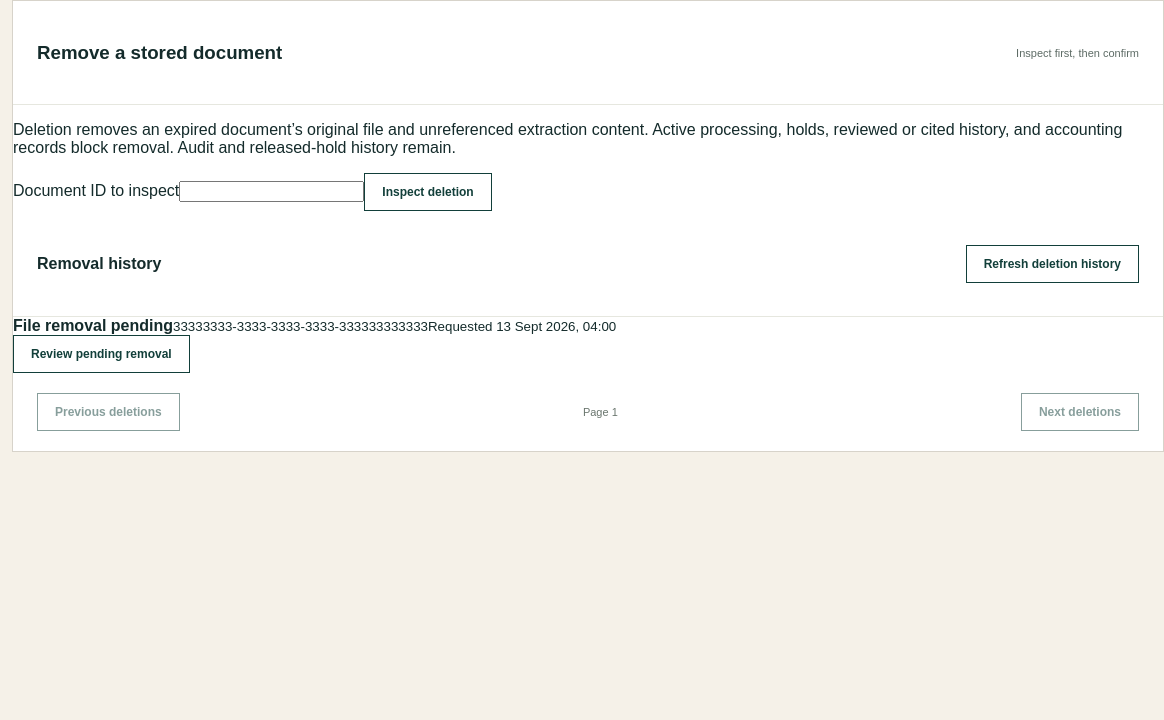
Test case: resumes pending file removal with explicit confirmation
Click the button "Review pending removal". click: (101, 354)
box: [13,335,190,373]
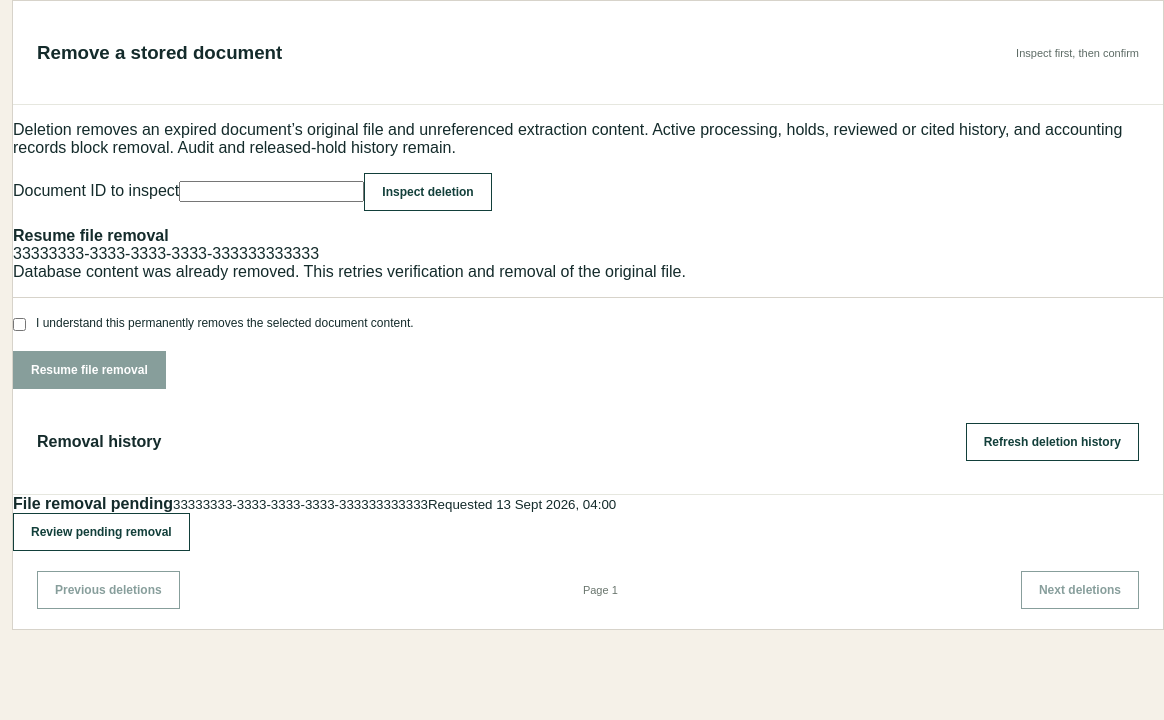
Result: the button "Resume file removal" is disabled at [13,351,166,389]
Click the checkbox. click: (20, 325)
box: [13,318,26,331]
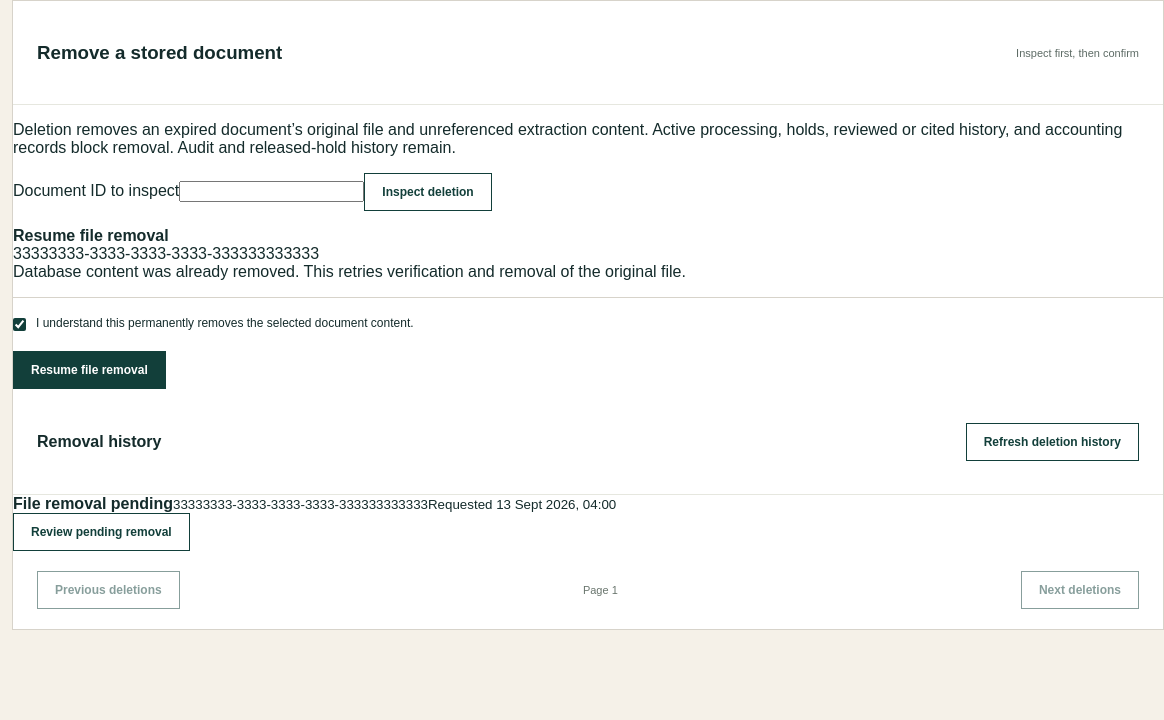
Click the button "Resume file removal". click: (89, 370)
box: [13,351,166,389]
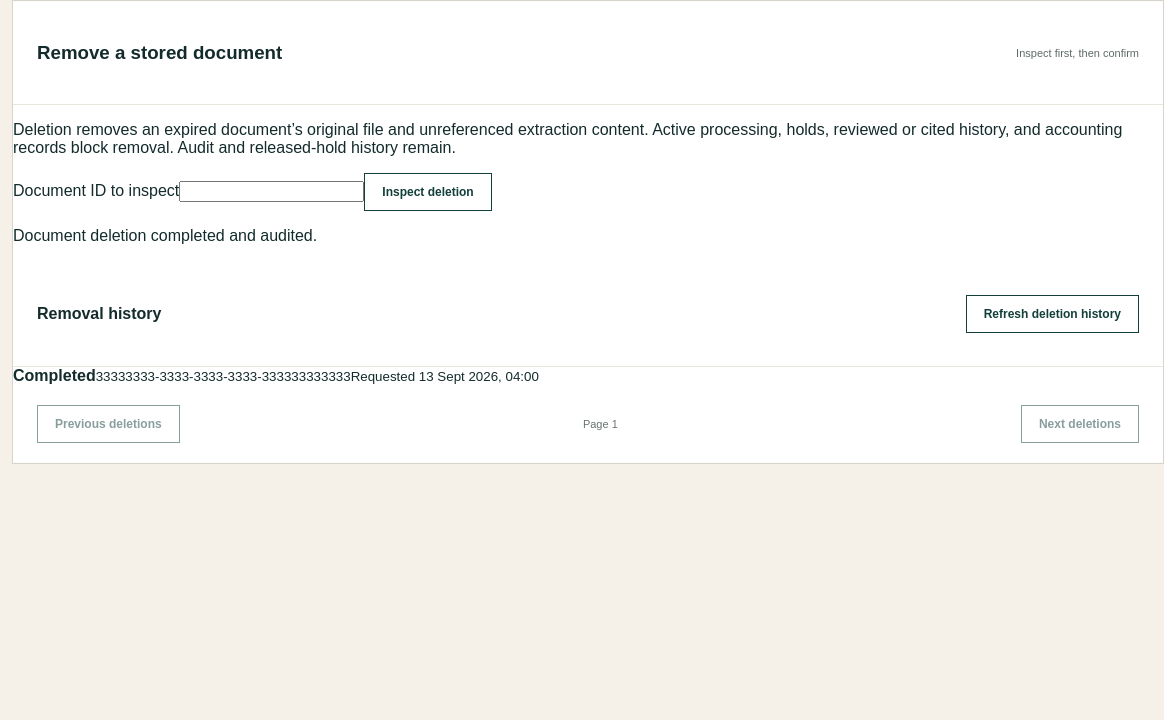
Result: the text "Document deletion completed and audited." is shown at [13,227,317,244]
